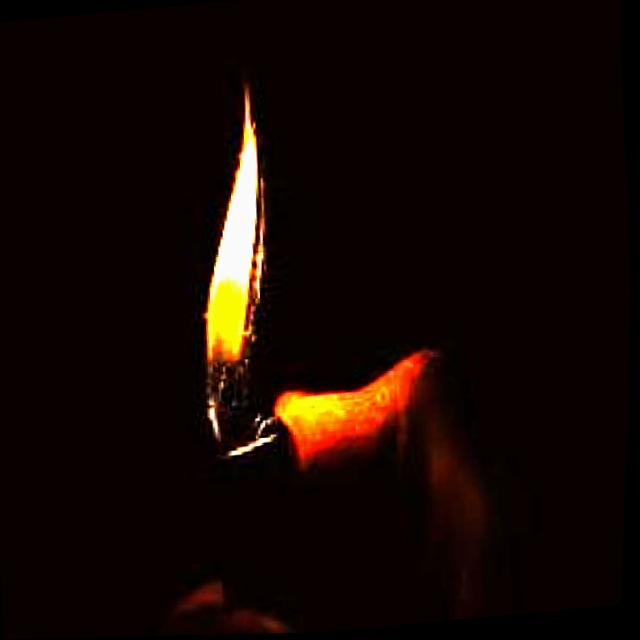Fire: (188, 92, 285, 456)
